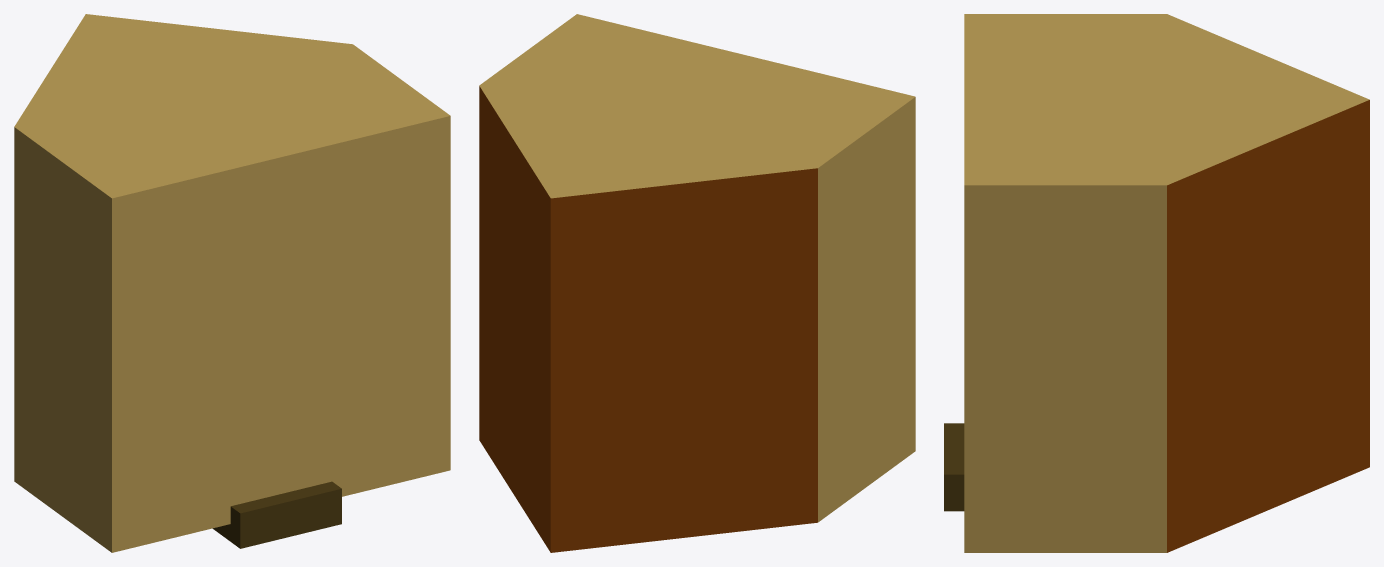
Rendered from House.fbx.
The picture shows the model from 3 angles, left to right: view 1: azimuth 30°, elevation 25°; view 2: azimuth 150°, elevation 25°; view 3: azimuth 270°, elevation 25°; orthographic projection. The views are drawn at different scales.
Parts seen in each view (by area): view 1: Cube; view 2: Cube; view 3: Cube.
Boxes of the visible parts, x1,y1,x2,y2 form: Cube: (14,14,450,552); Cube: (479,14,915,552); Cube: (944,14,1369,552).
Bounding box in the file's own units: 2 × 2.1 × 2.1.
